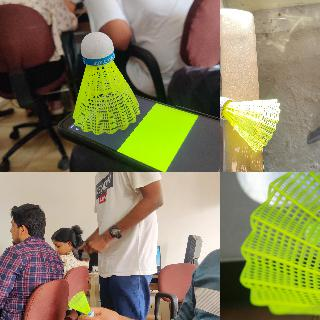shuttlecock: (240, 172, 319, 319), (72, 31, 140, 135), (220, 96, 280, 152), (68, 291, 94, 317)
